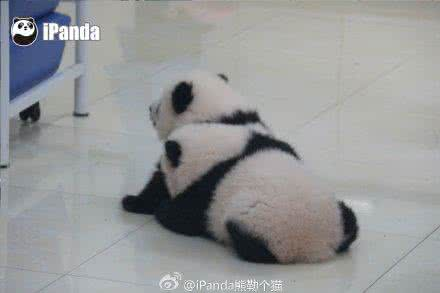panda: (158, 122, 360, 263), (121, 70, 266, 246)
